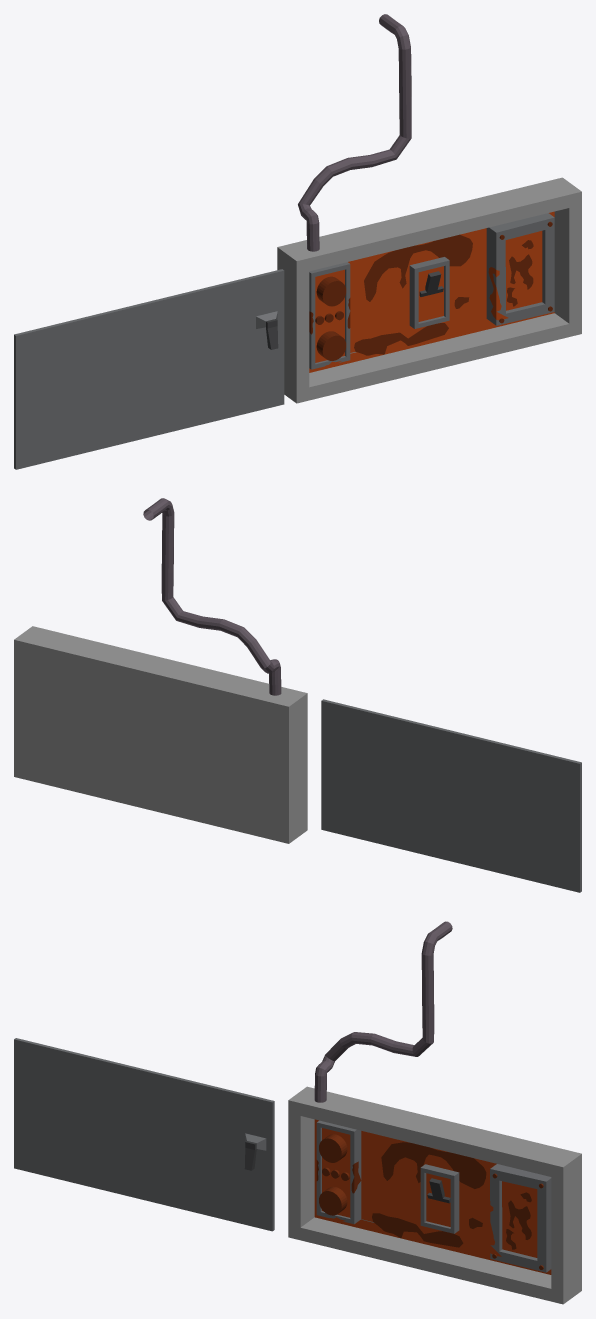
The model's file is Breaker.fbx.
The picture shows the model from 3 angles, top to bottom: view 1: azimuth 30°, elevation 25°; view 2: azimuth 150°, elevation 25°; view 3: azimuth 330°, elevation 25°; orthographic projection. The views are drawn at different scales.
Visible parts, largest first — view 1: Cube.002, Cube.001; view 2: Cube.002, Cube.001; view 3: Cube.002, Cube.001.
Part boxes in pixels (left/top/right/bottom): Cube.002: left=277, top=14, right=581, bottom=403; Cube.001: left=14, top=269, right=284, bottom=469; Cube.002: left=14, top=498, right=307, bottom=843; Cube.001: left=321, top=699, right=581, bottom=892; Cube.002: left=288, top=921, right=581, bottom=1304; Cube.001: left=14, top=1038, right=274, bottom=1231.
Bounding box in the file's own units: 398 × 221 × 59.06.
